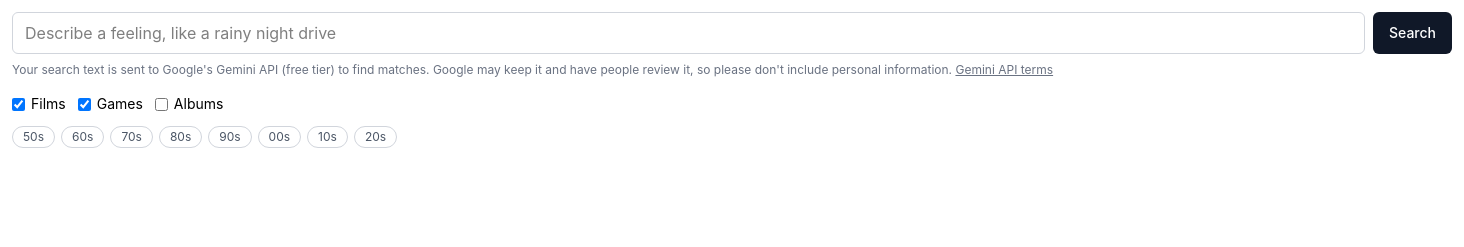
Test: no results gets a helpful message
Type "zzzz" into the search field at (688, 33), box [12, 12, 1365, 54]
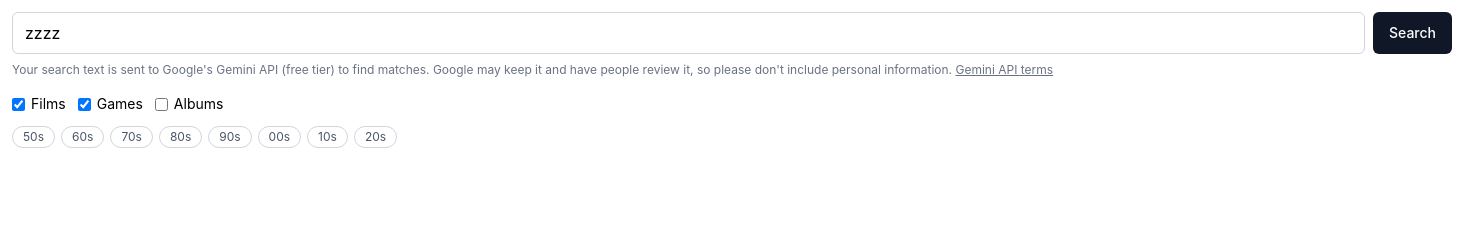
Click the button "Search" at (1412, 33), box [1373, 12, 1452, 54]
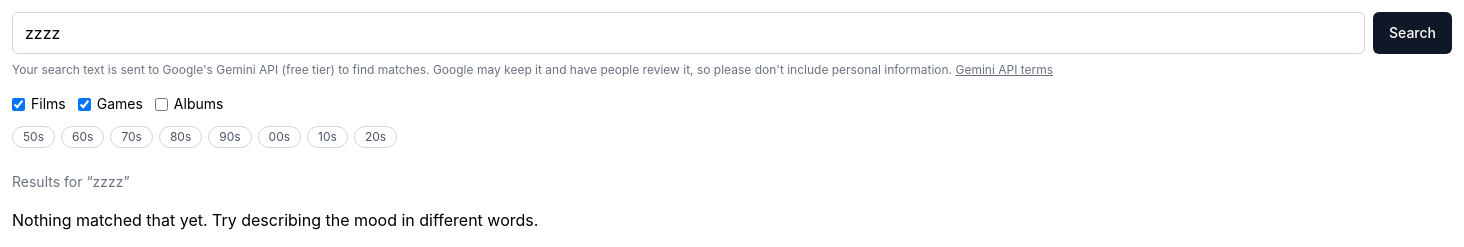
expect the text "Nothing matched that yet. Try describing the mood in different words." is shown: met, box [12, 210, 538, 230]
